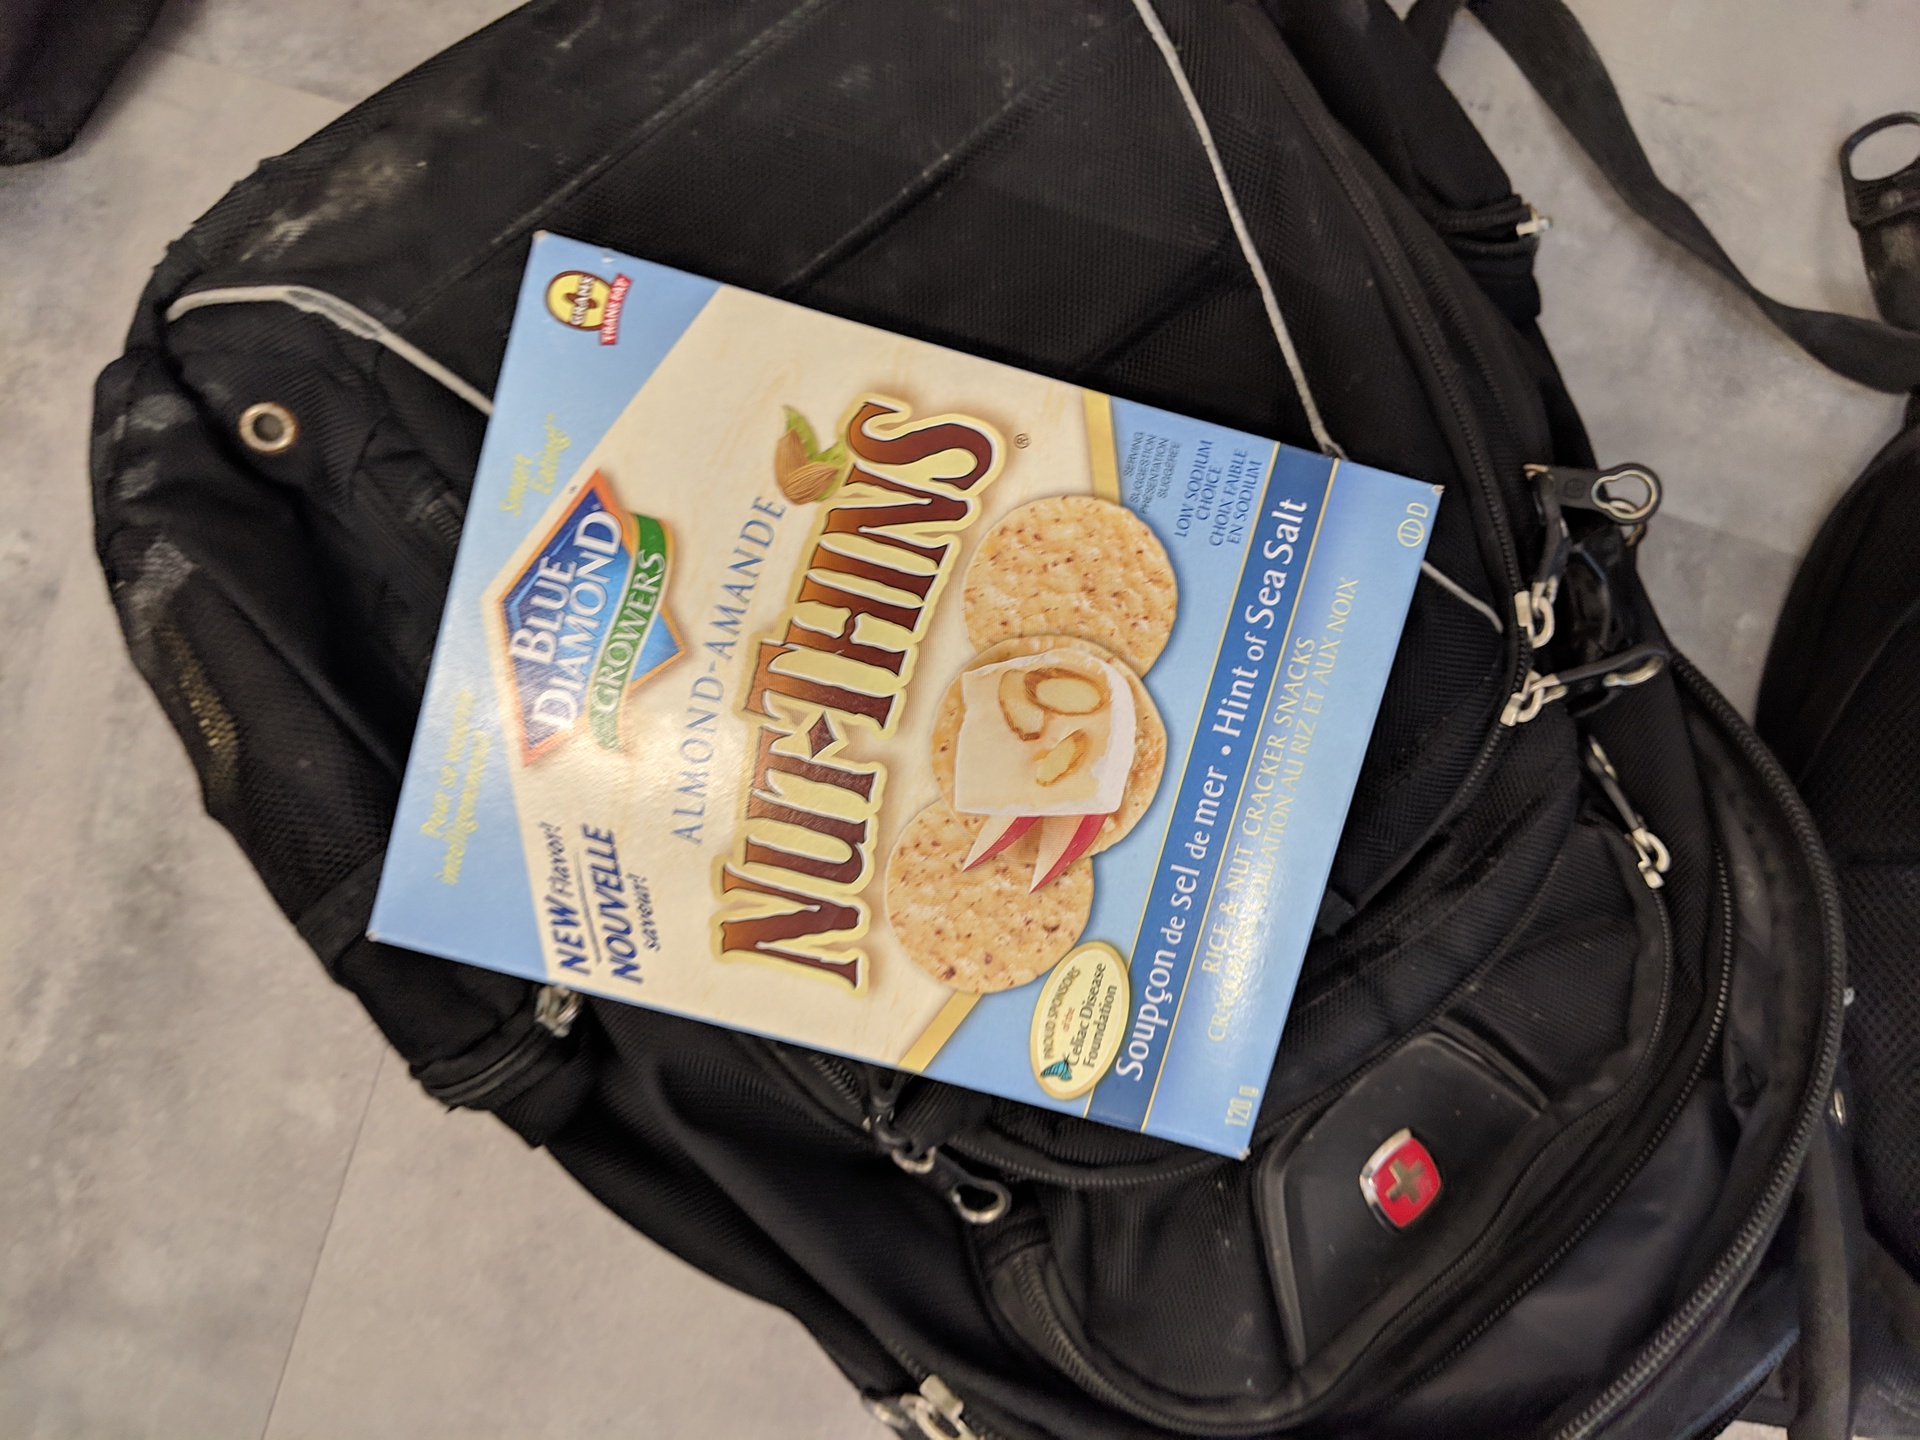blue_diamond_nut_thins_almond_seasalt: (484, 455, 1308, 935)
